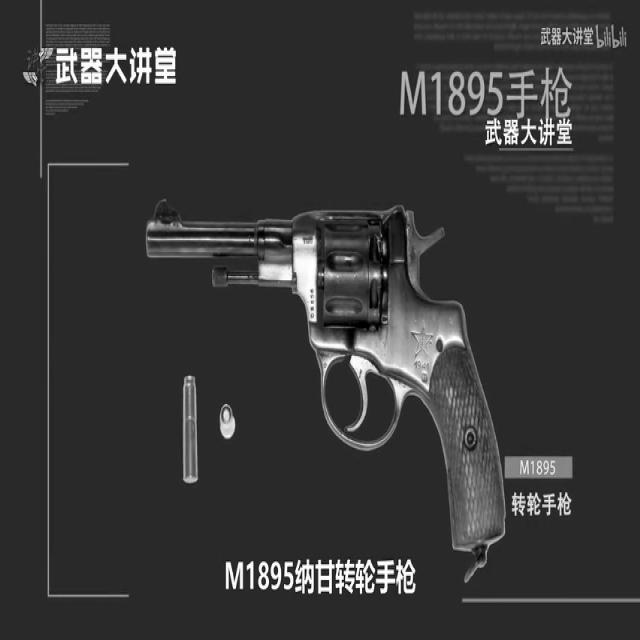Hand-Gun: (125, 186, 520, 564)
